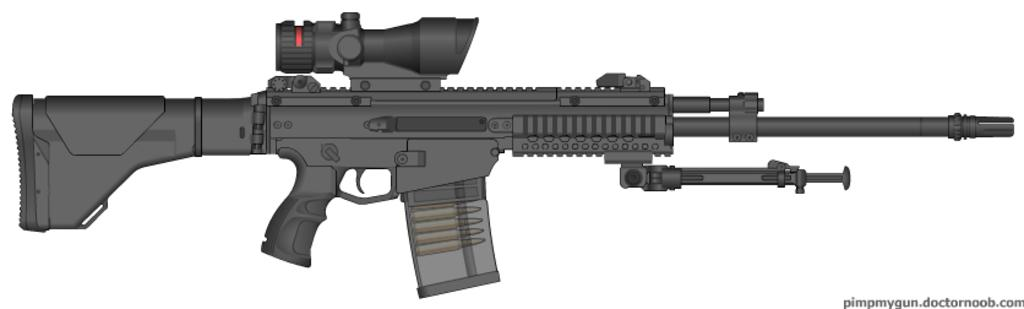Rifle: (16, 11, 1012, 296)
